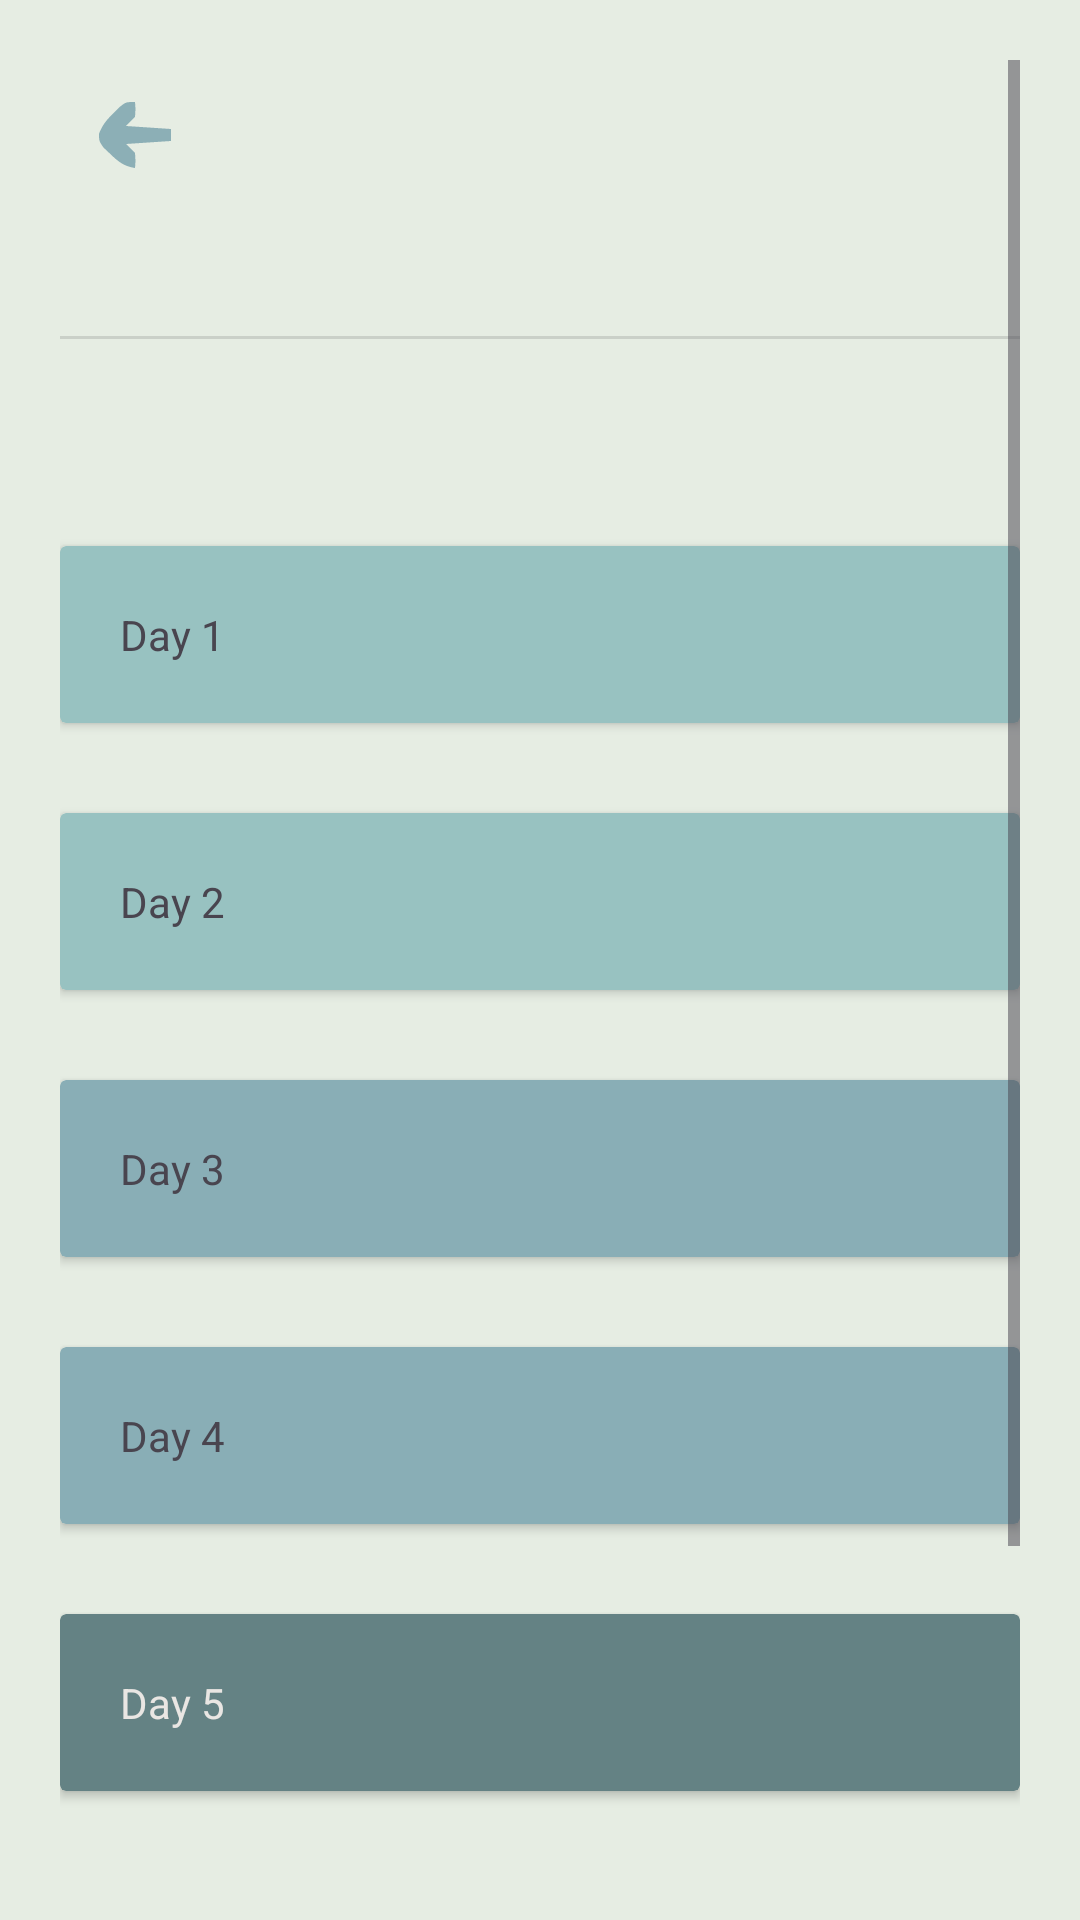

Icon click points for this 1080x1920 phone screenshot, format [x,y]:
arrow: [135,135]
